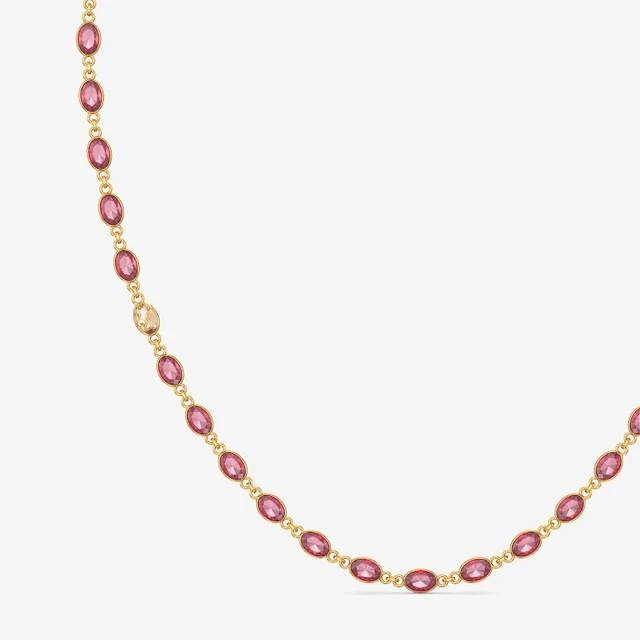missing gem: (135, 304, 158, 334)
